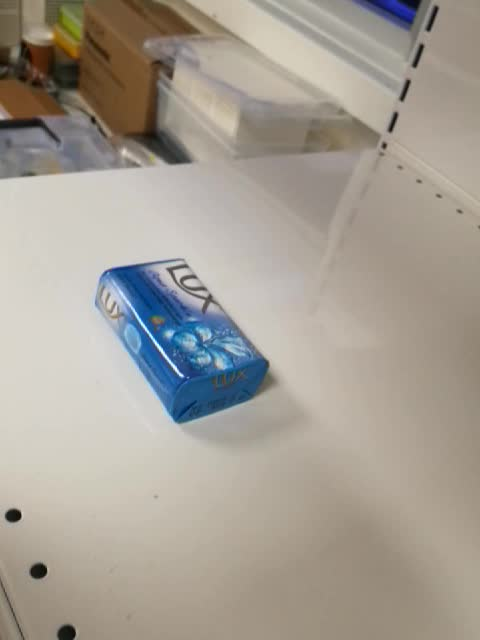soap: (92, 256, 270, 424)
